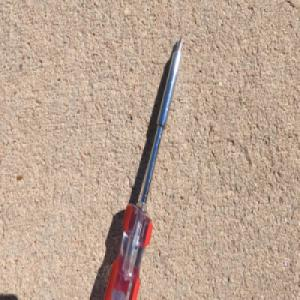Screwdriver: (101, 36, 184, 300)
